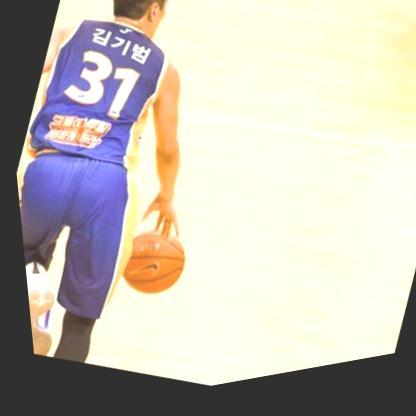basketball: (109, 226, 188, 310)
